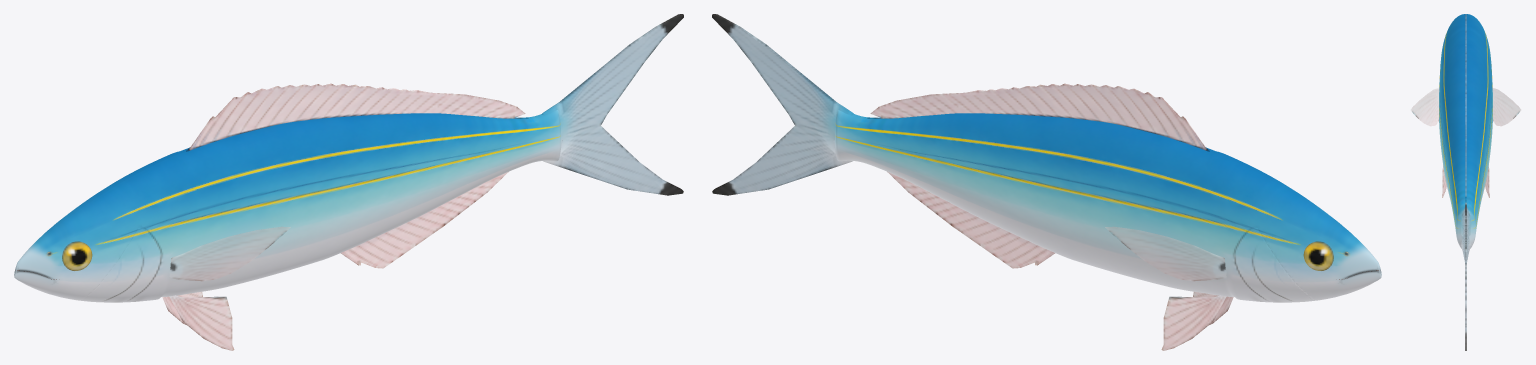
The model's file is takasago-normal-v5.glb.
3 views of the same model, side by side, from view 1: azimuth 30°, elevation 25°; view 2: azimuth 150°, elevation 25°; view 3: azimuth 270°, elevation 25° (orthographic). The views are drawn at different scales.
Parts seen in each view (by area): view 1: body, dorsal, caudal, anal, pectoral_1, operculum_1, pelvic_1, eye_1; view 2: body, dorsal, caudal, anal, pectoral_-1, operculum_-1, pelvic_-1, eye_-1; view 3: body, pectoral_-1, pectoral_1, caudal, dorsal, pelvic_-1, pelvic_1.
Boxes of the visible parts, x1,y1,x2,y2 form: body: (14,110,562,302); dorsal: (186,83,528,151); caudal: (542,14,683,195); anal: (340,171,508,268); pectoral_1: (169,226,290,281); operculum_1: (81,228,161,302); pelvic_1: (169,295,234,350); eye_1: (62,241,92,270); body: (833,110,1381,302); dorsal: (867,83,1209,151); caudal: (712,14,853,195); anal: (887,171,1055,268); pectoral_-1: (1105,226,1226,281); operculum_-1: (1234,228,1314,302); pelvic_-1: (1161,295,1226,350); eye_-1: (1303,241,1333,270); body: (1439,14,1492,248); pectoral_-1: (1492,88,1520,126); pectoral_1: (1411,88,1439,126); caudal: (1460,202,1471,350); dorsal: (1465,14,1466,201); pelvic_-1: (1485,165,1489,197); pelvic_1: (1442,165,1446,197).
Bounding box in the file's own units: 0.29 × 0.0997 × 0.0526.
3 materials, 3 textured.
